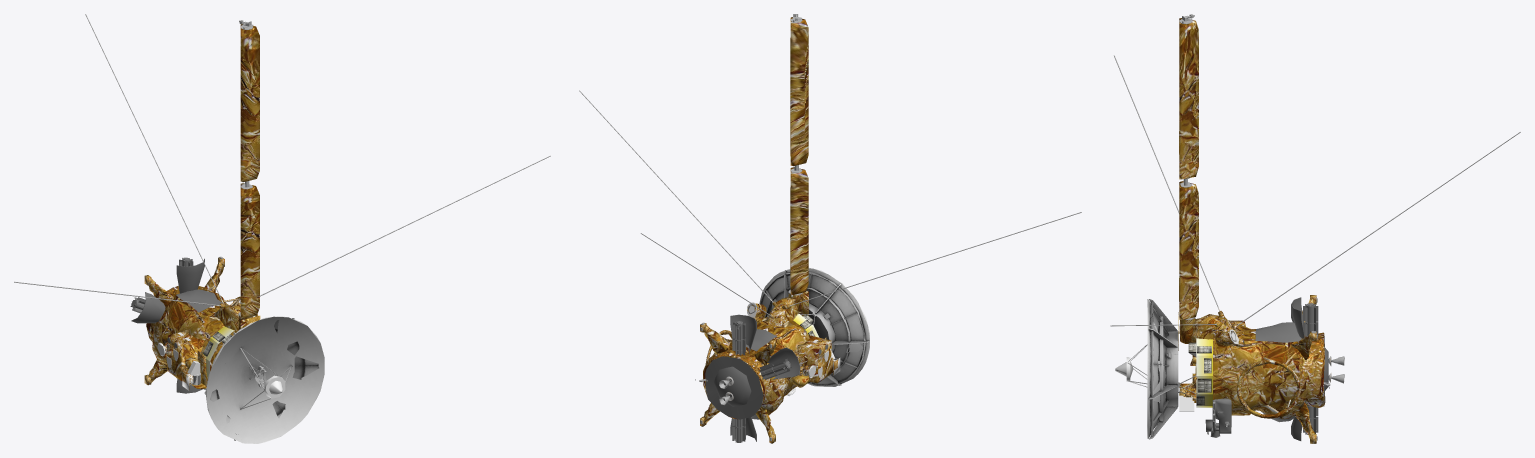
The model's file is cassini-no-huygens.glb.
The picture shows the model from 3 angles, left to right: view 1: azimuth 30°, elevation 25°; view 2: azimuth 150°, elevation 25°; view 3: azimuth 270°, elevation 25°; orthographic projection. The views are drawn at different scales.
Parts seen in each view (by area): view 1: foil_gold, dish, black_krinkle, aluminum, plastic_white; view 2: foil_gold, dish, black_krinkle, aluminum, plastic_dark; view 3: foil_gold, dish, black_krinkle, aluminum, plastic_dark, foil_gold_2, tex_01, plastic_white.
Boxes of the visible parts, <box> form: foil_gold: <box>144,24,260,390</box>; dish: <box>204,316,324,443</box>; black_krinkle: <box>131,258,222,393</box>; aluminum: <box>14,14,550,409</box>; plastic_white: <box>157,301,285,398</box>; foil_gold: <box>700,17,840,443</box>; dish: <box>759,267,869,386</box>; black_krinkle: <box>705,314,800,441</box>; aluminum: <box>579,14,1081,443</box>; plastic_dark: <box>723,304,828,442</box>; foil_gold: <box>1178,18,1331,443</box>; dish: <box>1147,299,1178,439</box>; black_krinkle: <box>1205,297,1328,440</box>; aluminum: <box>1110,14,1520,443</box>; plastic_dark: <box>1207,303,1318,437</box>; foil_gold_2: <box>1196,338,1212,407</box>; tex_01: <box>1188,342,1211,405</box>; plastic_white: <box>1115,325,1243,411</box>.
Size of the model in its own units: 17.98 by 13.11 by 11.66.
Materials: 8 (4 with a texture image).
